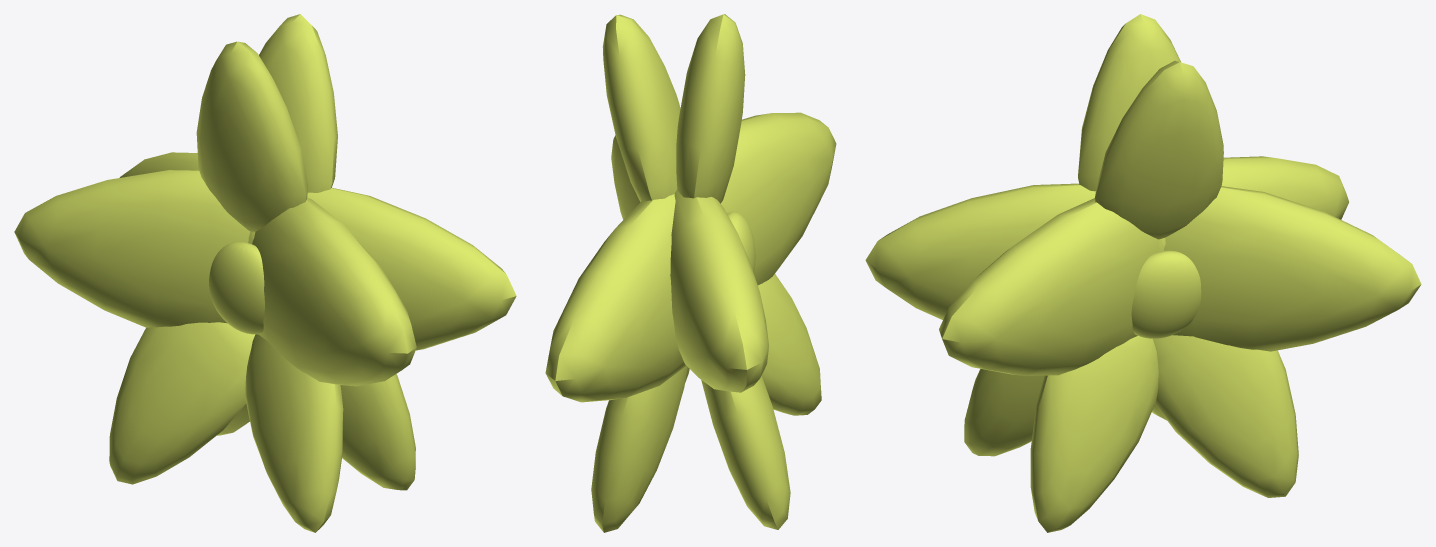
The model's file is star.008.gltf.
3 renders of one model, left to right at view 1: azimuth 30°, elevation 25°; view 2: azimuth 150°, elevation 25°; view 3: azimuth 270°, elevation 25°, orthographic. The views are drawn at different scales.
Parts seen in each view (by area): view 1: star.008; view 2: star.008; view 3: star.008.
Part boxes in pixels (bbox=[...]): star.008: bbox=[14, 14, 516, 532]; star.008: bbox=[545, 14, 836, 532]; star.008: bbox=[865, 14, 1421, 532].
Size of the model in its own units: 1.5 by 2.06 by 2.25.
